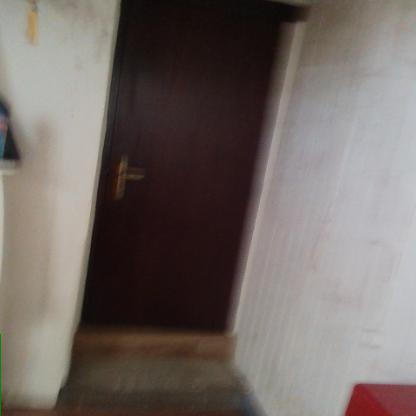door: (96, 2, 258, 331)
lever: (116, 170, 152, 184)
